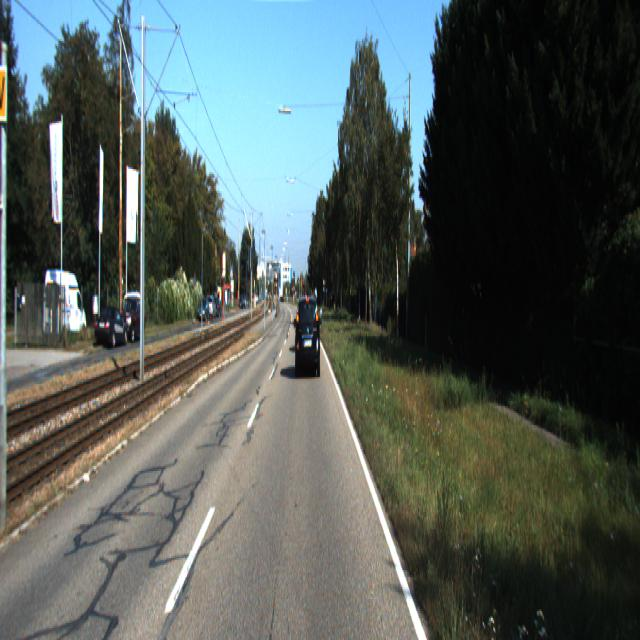Car: (43, 269, 88, 347), (296, 294, 322, 378), (94, 306, 130, 352), (117, 298, 147, 344)
